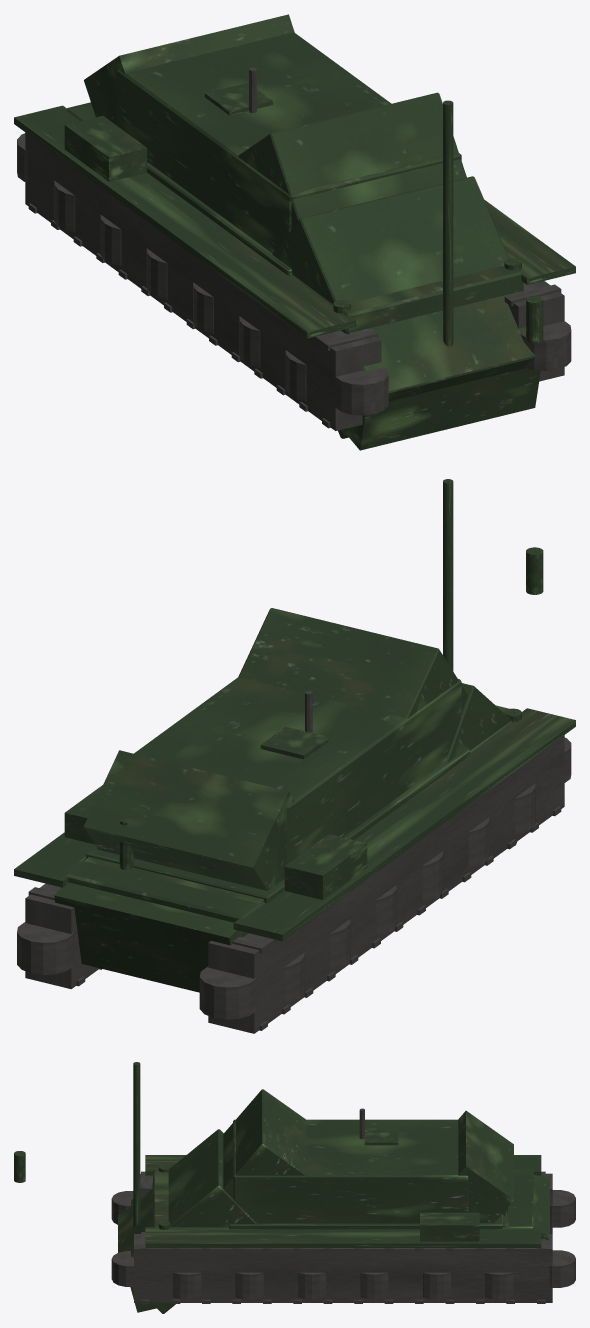
3 renders of one model, top to bottom at view 1: azimuth 30°, elevation 25°; view 2: azimuth 150°, elevation 25°; view 3: azimuth 270°, elevation 25°, orthographic. The views are drawn at different scales.
Visible parts, largest first — view 1: td_glacis, td_casemate, td_track1, td_cas_front, td_fender1, td_glacis_low, td, td_cas_rear, td_box1, td_fender-1, td_gun, td_idler1 (+11 smaller); view 2: td_casemate, td_cas_rear, td_track1, td_cas_front, td_fender1, td_rear, td, td_box1, td_deck, td_track-1, td_sprocket1, td_sprocket-1 (+12 smaller); view 3: td_casemate, td_track-1, td_fender-1, td_glacis, td_cas_front, td_cas_rear, td, td_box-1, td_deck, td_gun, td_rear, td_fender1 (+12 smaller).
Part boxes in pixels (x1,y1,x2,y2): td_glacis: [272, 176, 535, 438]; td_casemate: [117, 32, 461, 253]; td_track1: [25, 132, 381, 430]; td_cas_front: [238, 92, 466, 228]; td_fender1: [14, 105, 356, 338]; td_glacis_low: [345, 368, 540, 450]; td: [66, 103, 523, 334]; td_cas_rear: [84, 14, 294, 125]; td_box1: [64, 115, 147, 181]; td_fender-1: [484, 200, 575, 284]; td_gun: [443, 100, 453, 411]; td_idler1: [335, 367, 388, 415]; td_casemate: [134, 677, 461, 864]; td_cas_rear: [84, 750, 294, 890]; td_track1: [208, 735, 564, 1033]; td_cas_front: [238, 608, 467, 718]; td_fender1: [233, 708, 575, 941]; td_rear: [54, 856, 263, 992]; td: [66, 705, 522, 936]; td_box1: [284, 834, 367, 899]; td_deck: [86, 748, 469, 903]; td_track-1: [25, 883, 99, 989]; td_sprocket1: [199, 967, 256, 1019]; td_sprocket-1: [17, 922, 73, 974]; td_casemate: [233, 1119, 468, 1223]; td_track-1: [134, 1234, 552, 1302]; td_fender-1: [145, 1227, 541, 1247]; td_glacis: [118, 1129, 256, 1313]; td_cas_front: [223, 1089, 306, 1198]; td_cas_rear: [458, 1110, 513, 1222]; td: [153, 1169, 533, 1228]; td_box-1: [420, 1212, 479, 1241]; td_deck: [229, 1214, 502, 1229]; td_gun: [133, 1062, 140, 1227]; td_rear: [503, 1175, 549, 1240]; td_fender1: [145, 1155, 541, 1175].
Size of the model in its own units: 385 by 451 by 1034.
